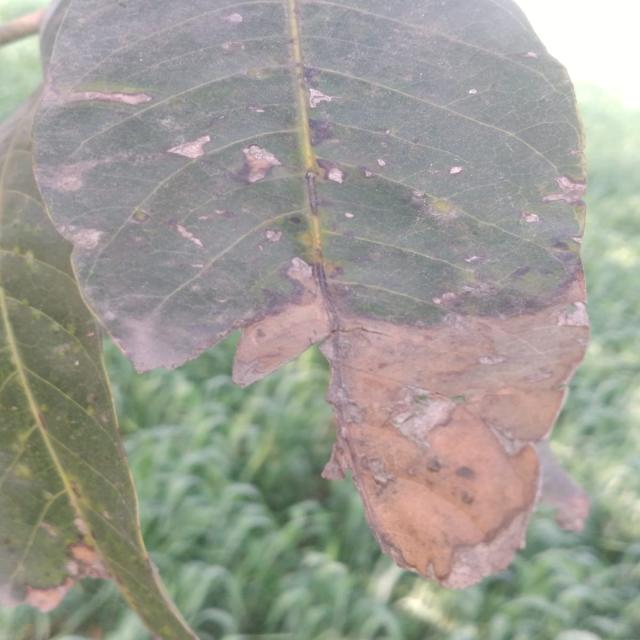Bacterial Cancer: (371, 283, 563, 534), (395, 551, 506, 591), (243, 319, 326, 349), (26, 593, 69, 612)
Powdery Mildew: (245, 142, 283, 166), (166, 137, 215, 152), (560, 176, 583, 204), (178, 226, 202, 246), (74, 230, 105, 244), (290, 258, 312, 276), (308, 92, 330, 106), (118, 95, 148, 105), (568, 317, 590, 325), (447, 168, 462, 177), (328, 173, 343, 181)
